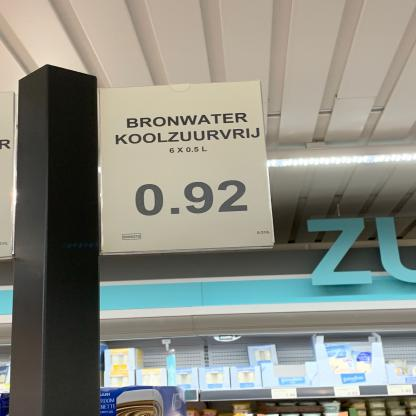prtg: (97, 80, 277, 256)
